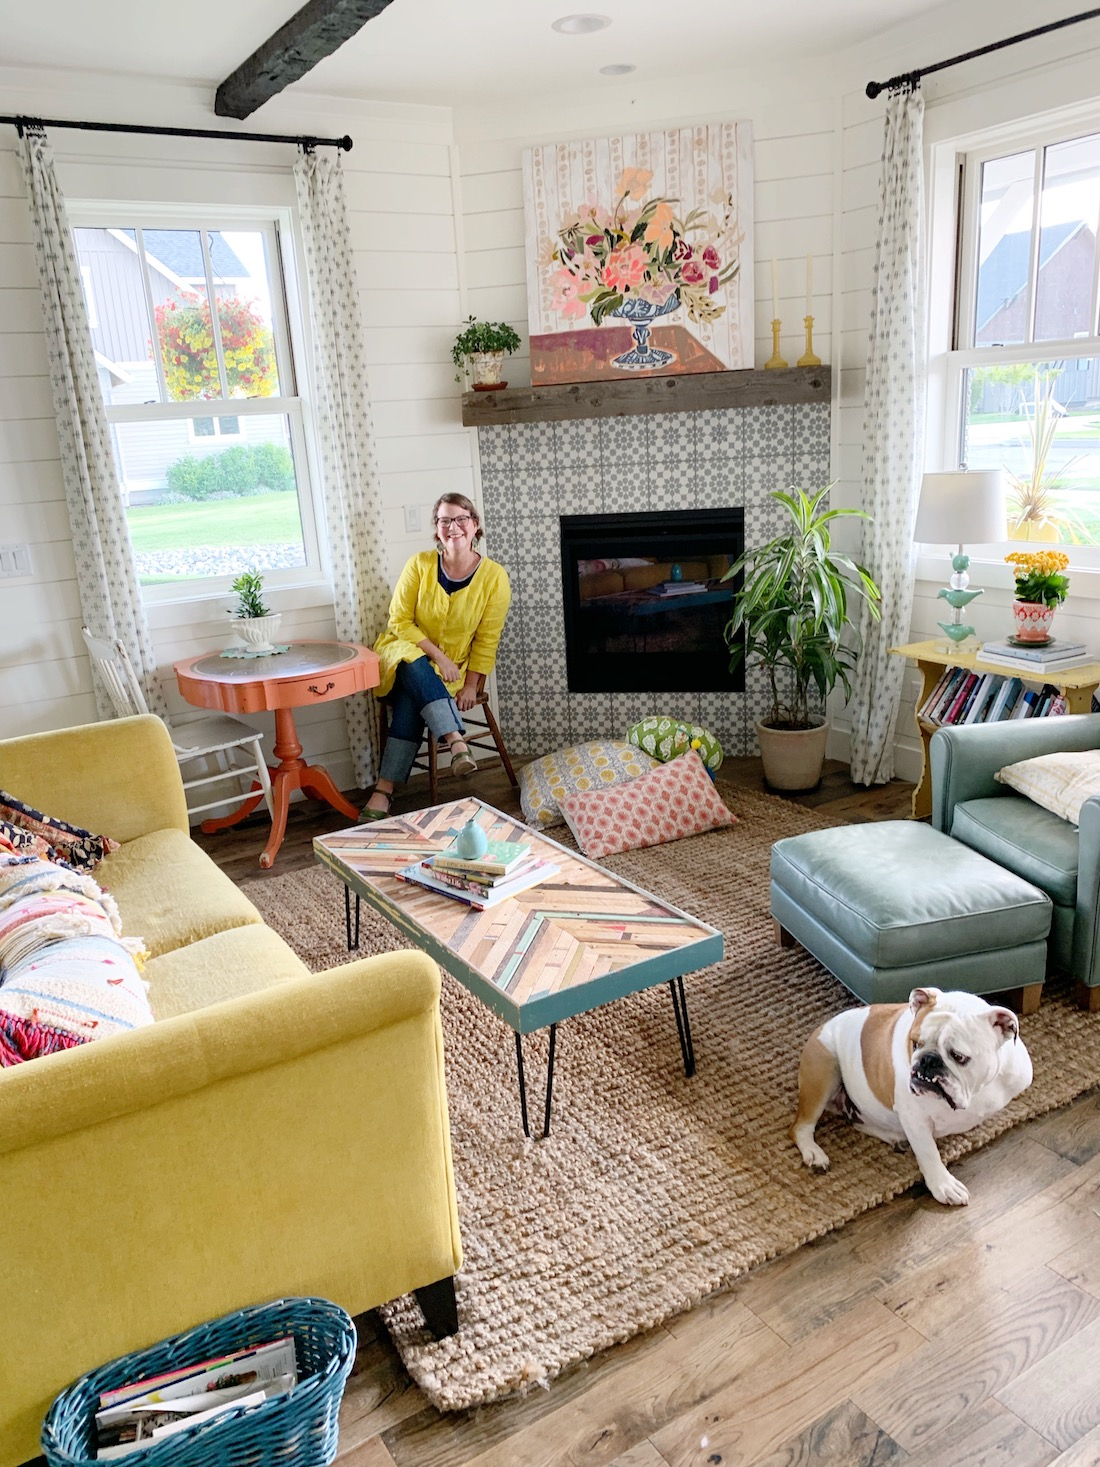biru: (776, 819, 1063, 992)
hitam: (560, 508, 753, 703)
kuning: (6, 714, 432, 1348)
putih: (914, 467, 1009, 549)
